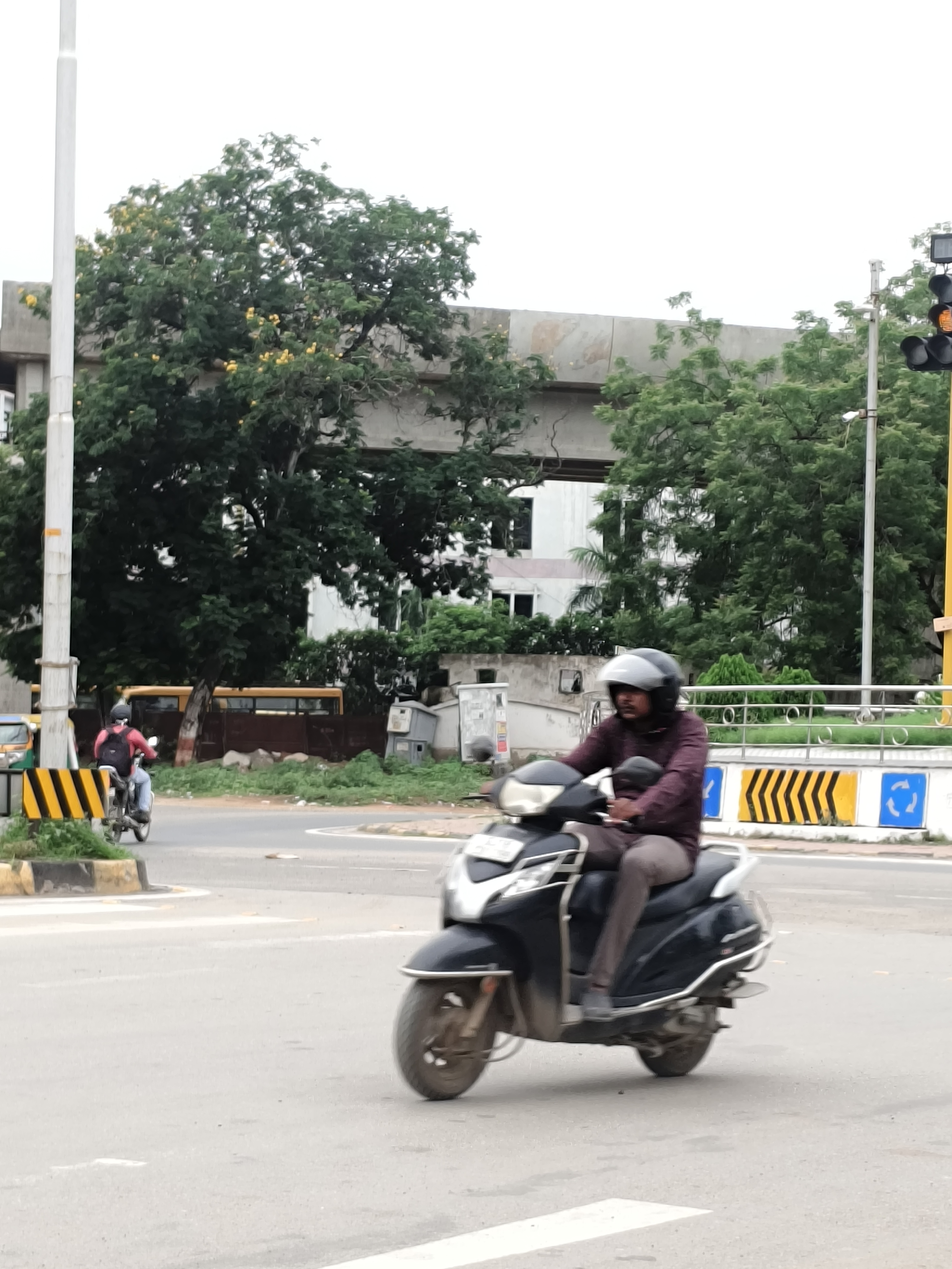BikeWithRider: (377, 637, 788, 1109), (86, 695, 165, 848)
Helmet: (591, 640, 695, 731), (106, 698, 137, 731)
